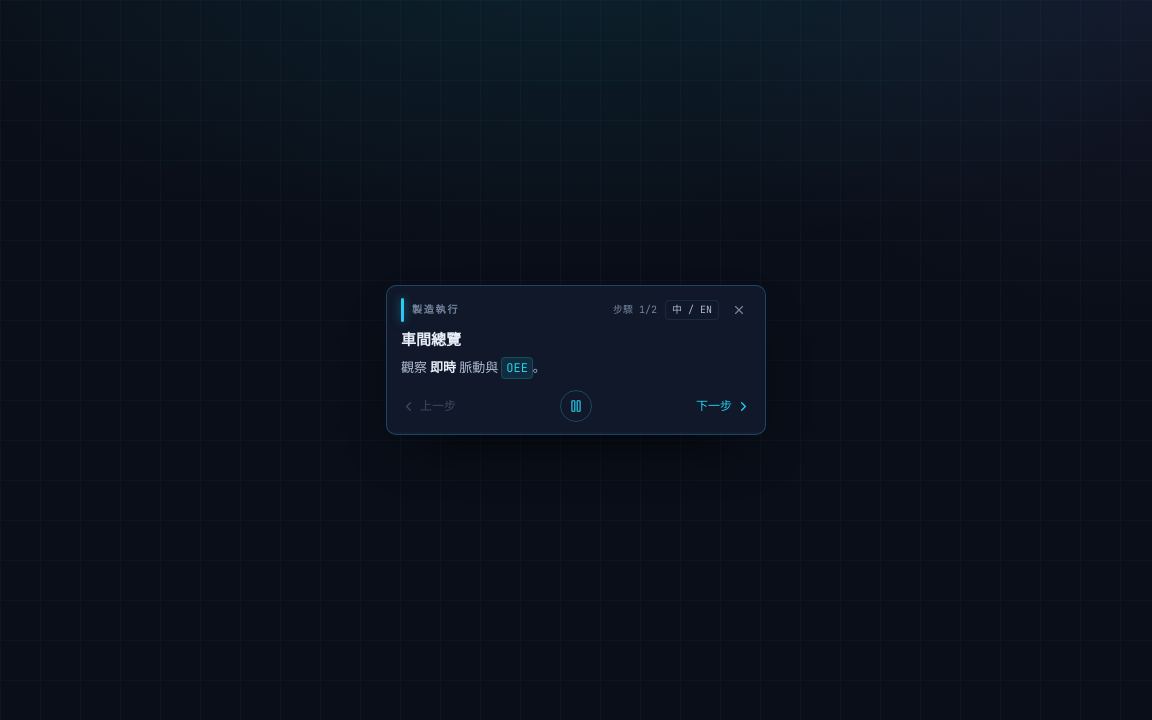
Test case: TourCard › toggles zh→EN via LangToggle, updating both the store and the rendered text
The image size is (1152, 720).
expect the heading "車間總覽" is shown: met, box top-left (401, 330), bottom-right (461, 349)
Click the button with aria-label "Switch to English".
click(692, 310)  # box top-left (665, 300), bottom-right (719, 320)
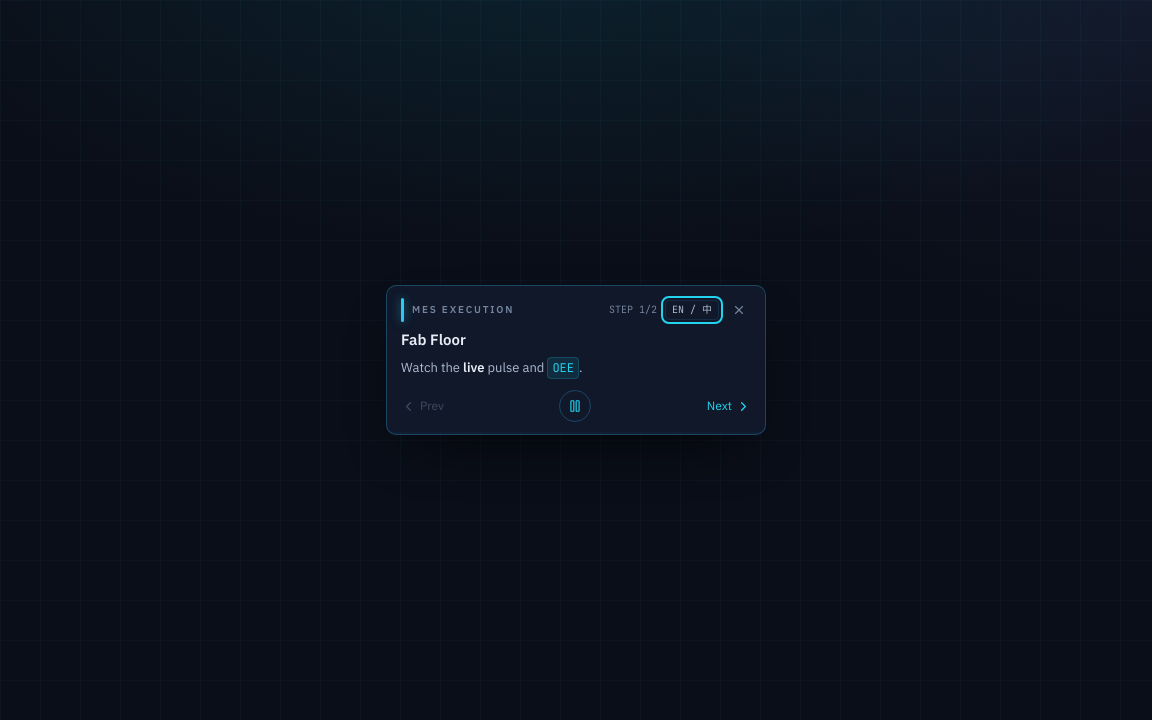
expect the heading "Fab Floor" is shown: met, box top-left (401, 330), bottom-right (466, 349)
expect the text "live" is shown: met, box top-left (463, 359), bottom-right (484, 376)
